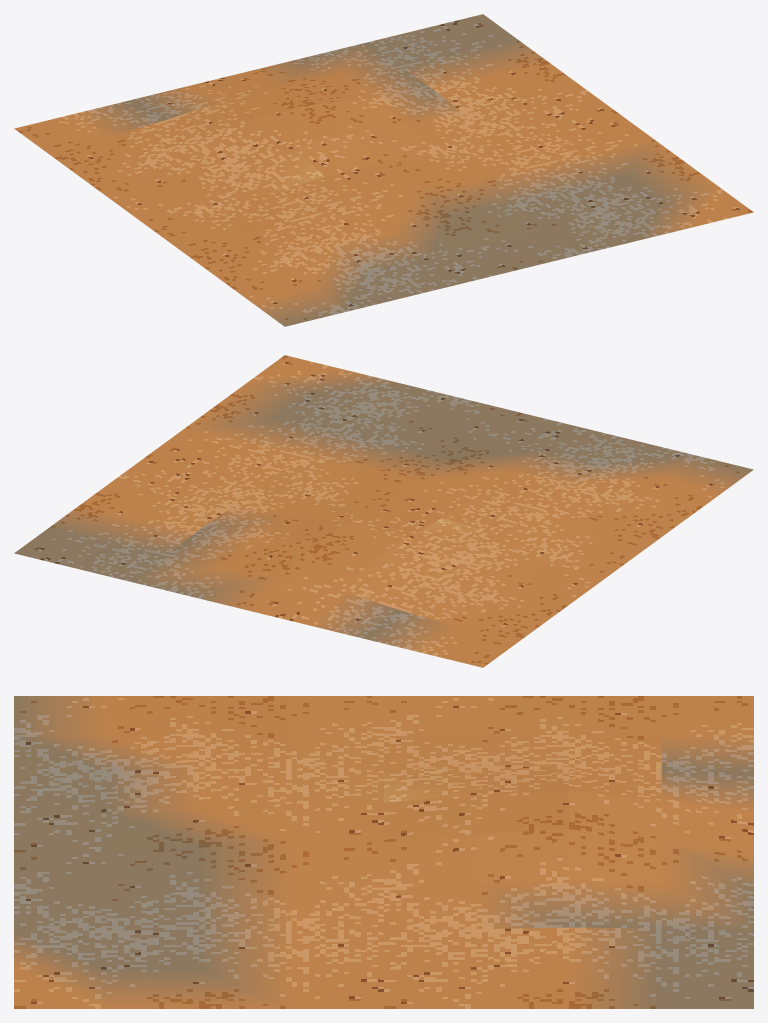
File: wland.ground__dunes.glb
3 renders of one model, top to bottom at view 1: azimuth 30°, elevation 25°; view 2: azimuth 150°, elevation 25°; view 3: azimuth 270°, elevation 25°, orthographic. The views are drawn at different scales.
Visible parts, largest first — view 1: kit_shell_ground; view 2: kit_shell_ground; view 3: kit_shell_ground.
Boxes of the visible parts, box(x1,y1,x2,y2) form: kit_shell_ground: box(14, 14, 753, 326); kit_shell_ground: box(14, 355, 753, 667); kit_shell_ground: box(14, 696, 753, 1008).
Size of the model in its own units: 12 by 0.418 by 12.
1 material, 1 textured.
